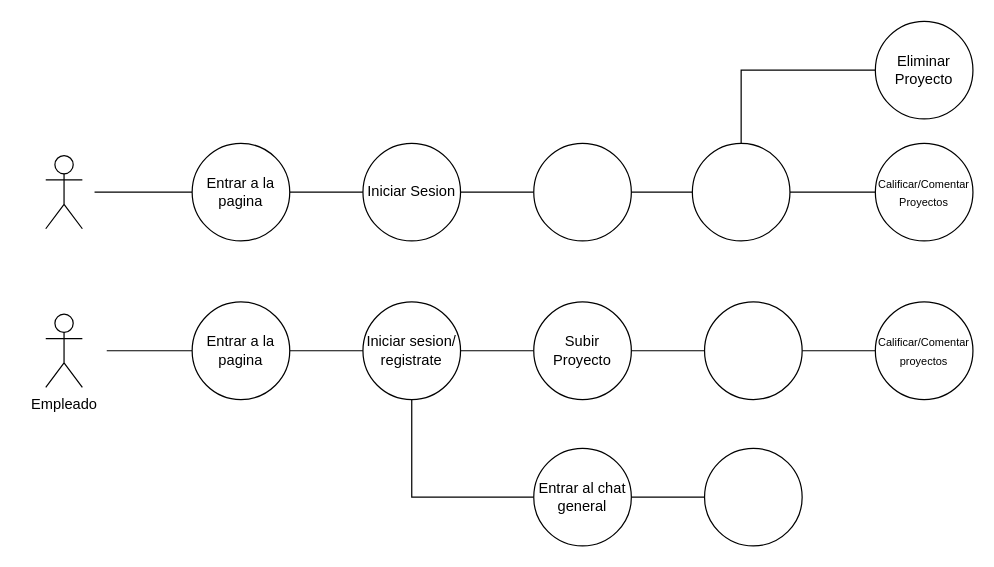
The diagram is 994 pixels wide and 567 high, and some of its shapes have lost their labels. Each missing label, with the centre of its shape:
Adminstrador: [63,191]
Elegir Proyecto: [740,191]
Ver otros proyectos: [752,350]
Ver proyecto: [582,191]
Ver/Mandar mensaje: [752,496]
